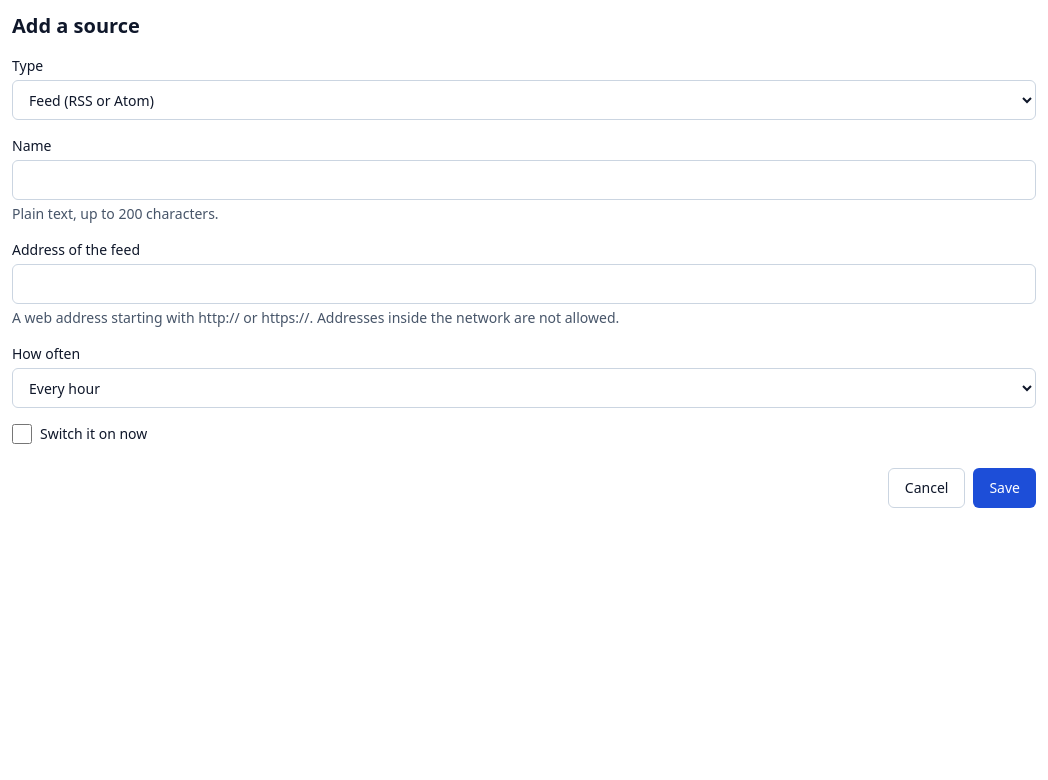
Test: adding a source › does not ask when the name is N and the address
Step 1. Type "N" into the field labelled "Name" → (524, 180), box top-left (12, 160), bottom-right (1036, 200)
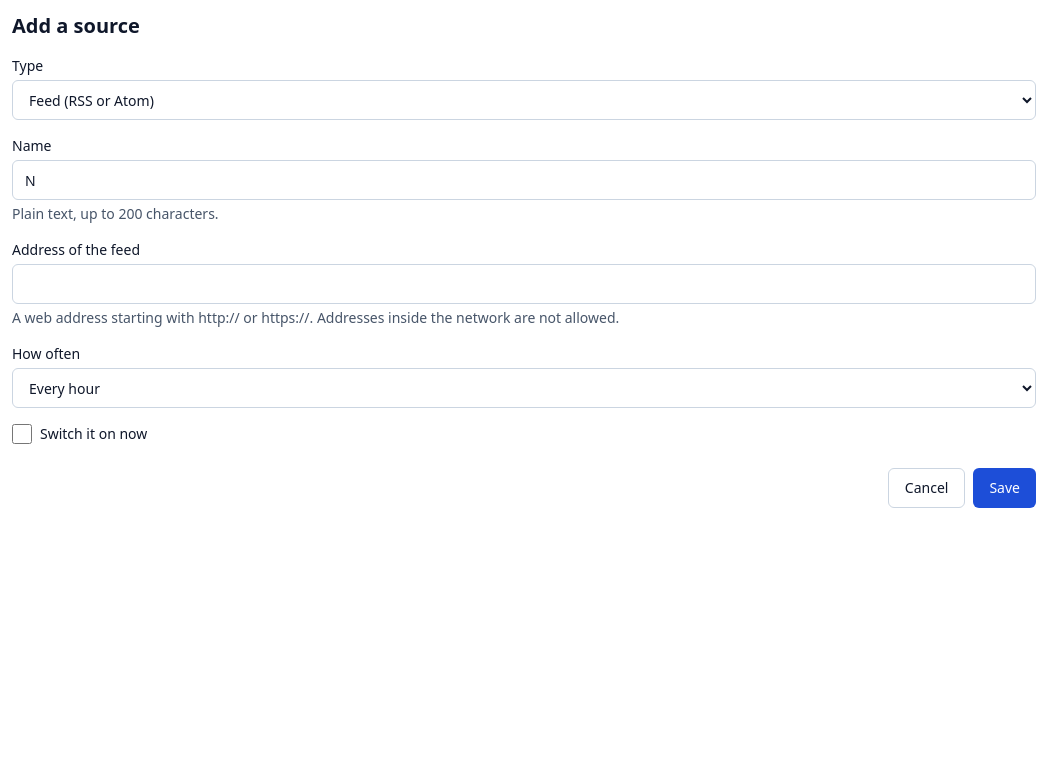
Step 2. Click the button "Save" → (1005, 488), box top-left (973, 468), bottom-right (1036, 508)
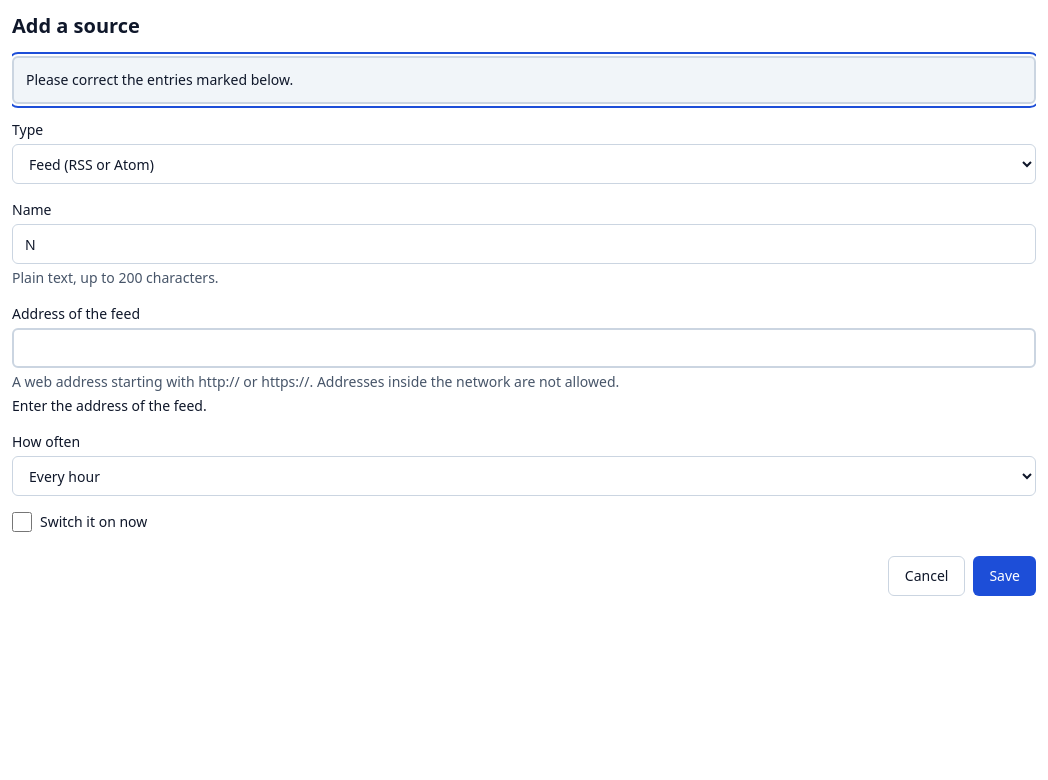
Expected: the message reads "Please correct the entries marked below.", top-left (26, 70), bottom-right (293, 89)
Expected: the text "Enter the address of the feed." is shown, top-left (12, 396), bottom-right (207, 415)
